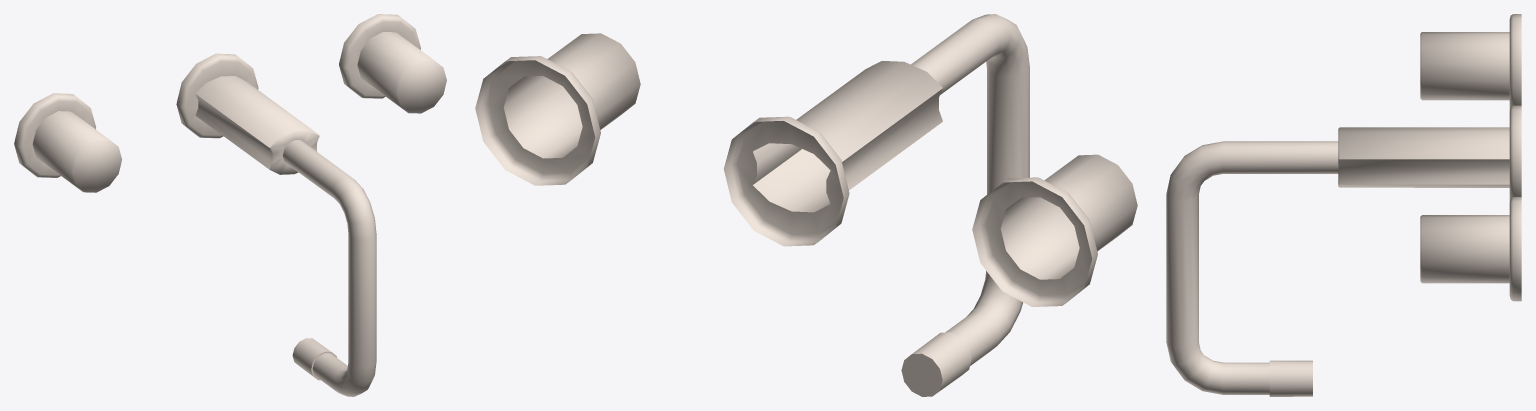
The model's file is MeshSinkFaucet_15_0.obj.
3 views of the same model, side by side, from view 1: azimuth 30°, elevation 25°; view 2: azimuth 150°, elevation 25°; view 3: azimuth 270°, elevation 25° (orthographic). The views are drawn at different scales.
Parts seen in each view (by area): view 1: SinkFaucet_15; view 2: SinkFaucet_15; view 3: SinkFaucet_15.
Part boxes in pixels (x1,y1,x2,y2): SinkFaucet_15: (14, 14, 446, 396); SinkFaucet_15: (475, 14, 1137, 396); SinkFaucet_15: (1166, 14, 1521, 396).
Bounding box in the file's own units: 0.4416 × 0.2584 × 0.2919.
